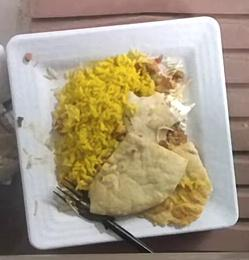naan: (90, 92, 212, 226)
rice: (53, 50, 153, 189)
